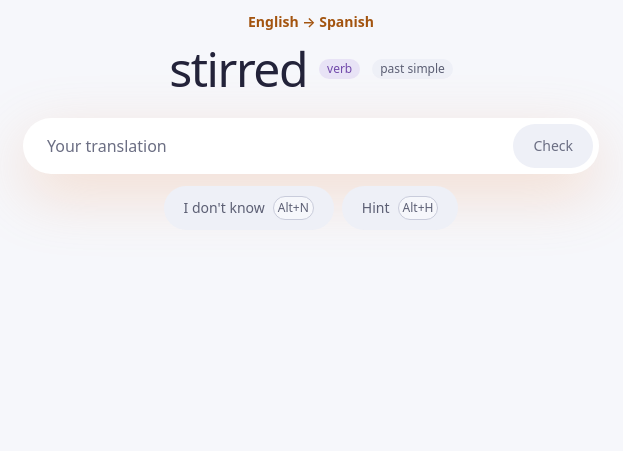
Scenario: a hint on a word › a verb asked on its own in another form is asked for in its base form, and its sentence stays hidden
Type "removido" into the field labelled "Your translation" at [276, 146], box [47,124,505,168]
Then press Enter
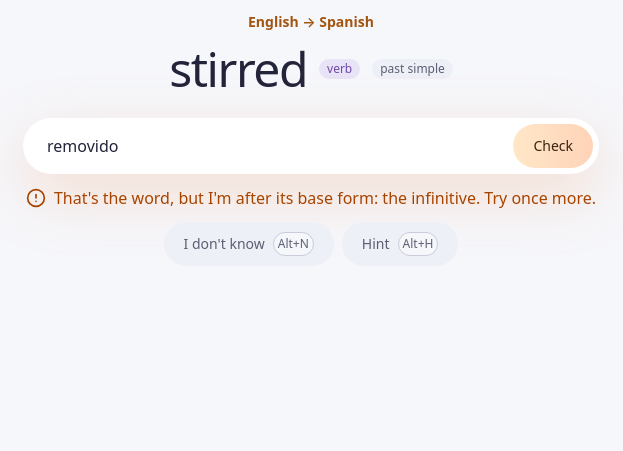
Expected: the text "That's the word, but I'm after its base form: the infinitive. Try once more." is shown, [26,186,596,210]
Replace the text in the field named "Your translation" with "remover" at [276, 146], box [47,124,505,168]
Then press Enter
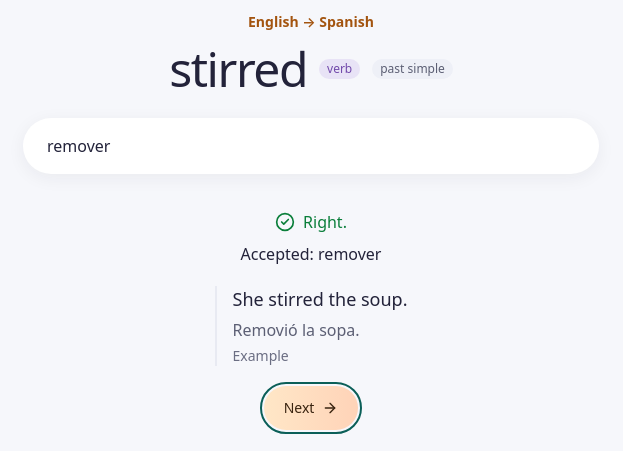
Expected: the text "Right." is shown, [275,210,347,234]
